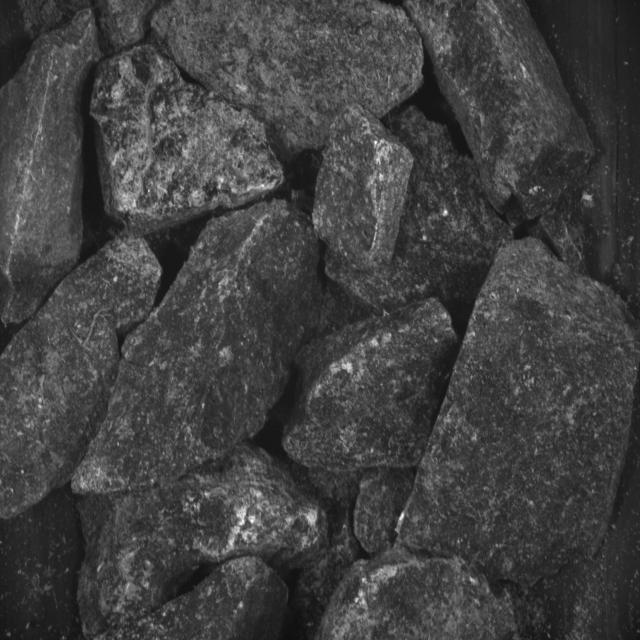Stones: (399, 240, 640, 585), (74, 200, 321, 495), (79, 446, 329, 639), (1, 238, 162, 520), (152, 1, 425, 156), (406, 1, 595, 224), (327, 107, 514, 327), (91, 47, 285, 235), (1, 9, 101, 324), (285, 300, 457, 471), (319, 548, 517, 640), (314, 105, 415, 270), (104, 558, 289, 640), (355, 469, 415, 556)
